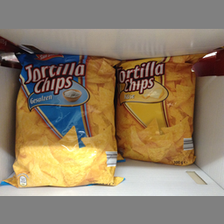chips: (14, 53, 118, 187), (118, 55, 201, 165)
